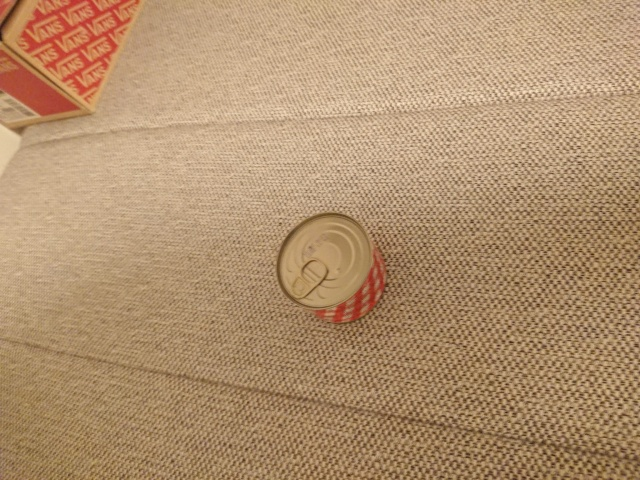Podravka Luncheon Meat 150g: (273, 210, 390, 326)
